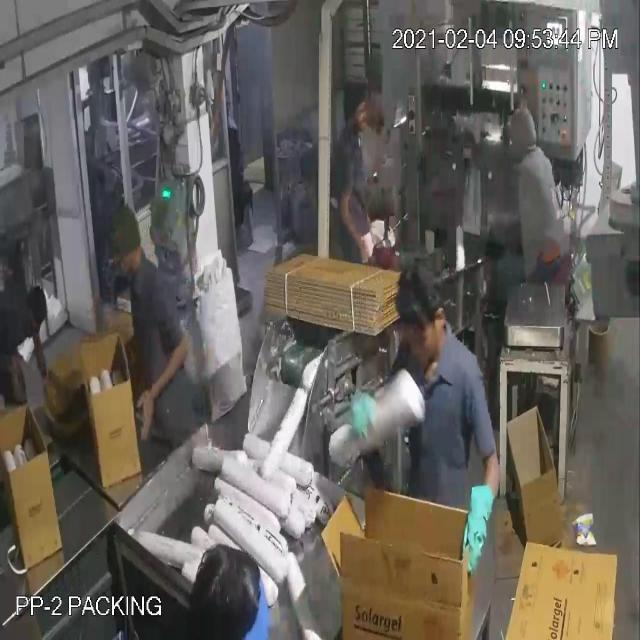No_Gloves: (26, 62, 484, 529)
